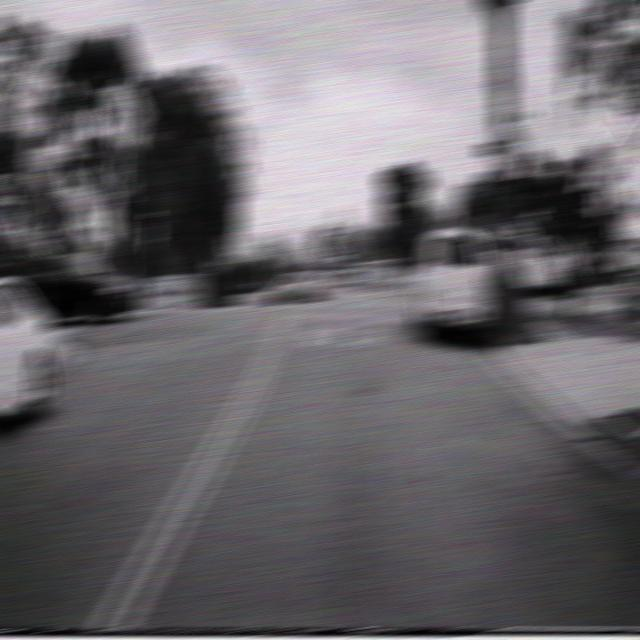stop: (492, 124, 526, 180)
